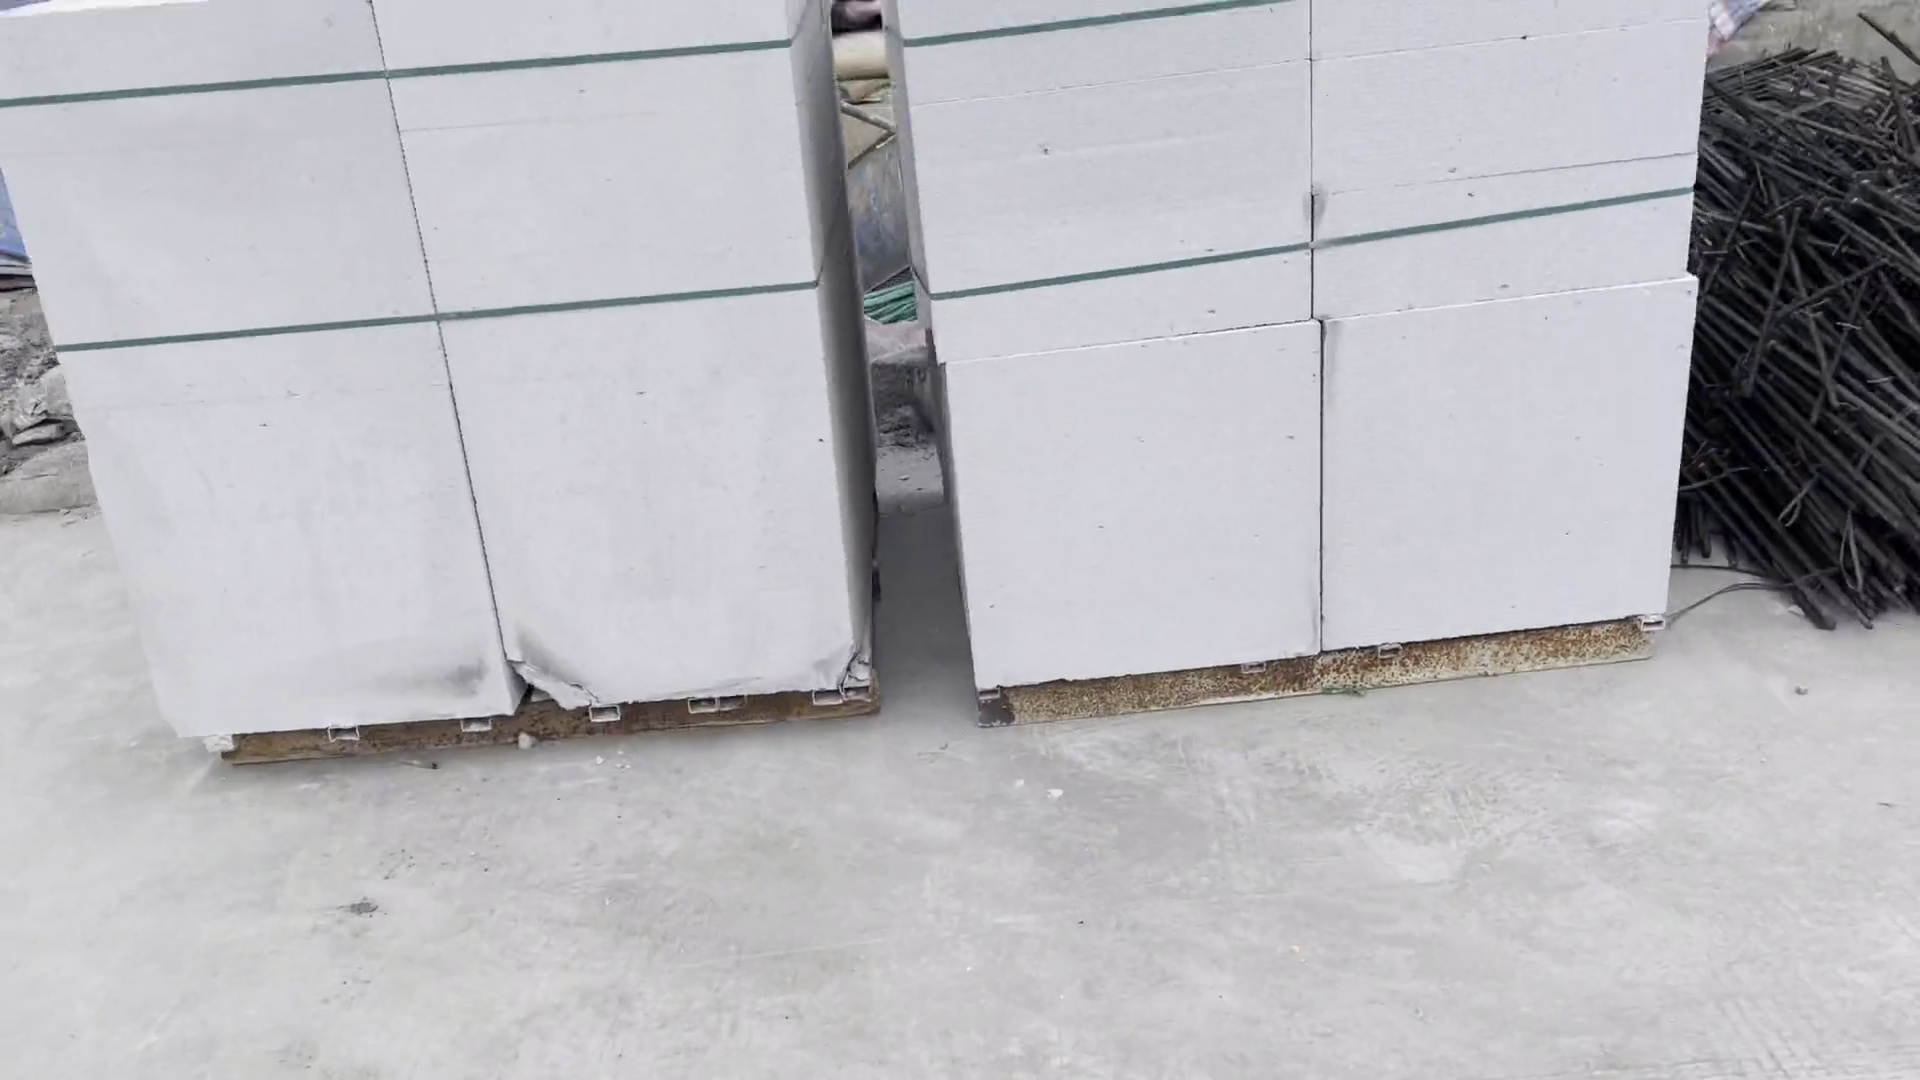brick: (1, 5, 884, 764), (884, 1, 1698, 723)
